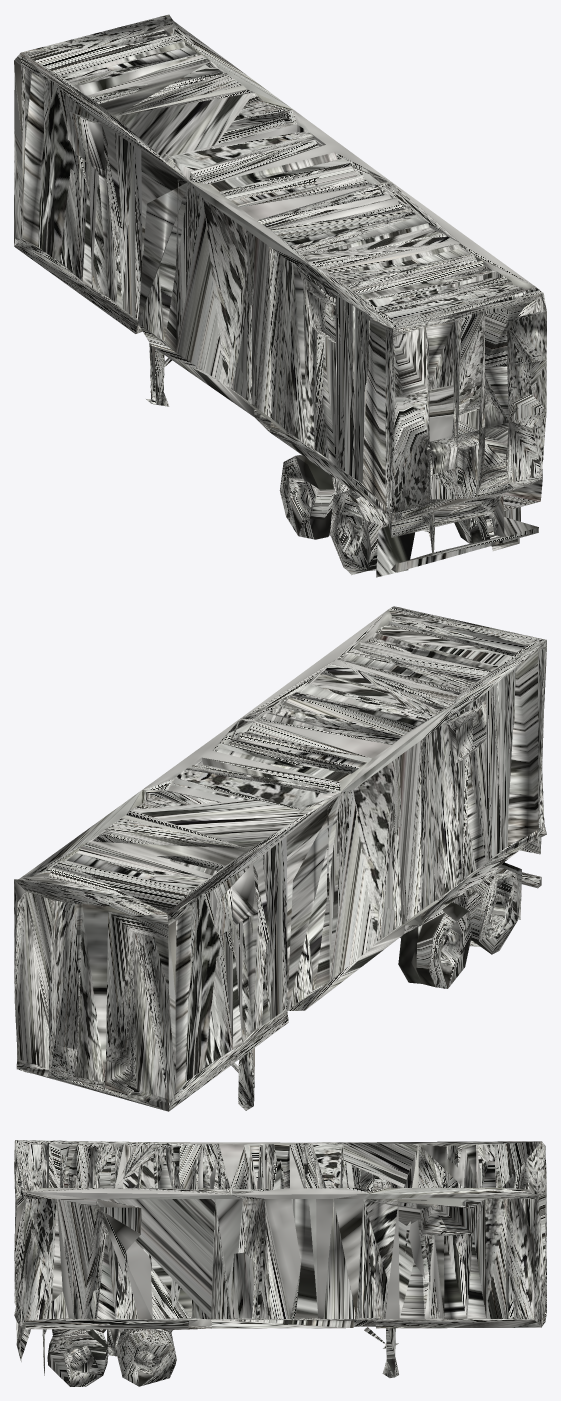
The model's file is Semi_Trailer_Cargo_20.glb.
The picture shows the model from 3 angles, top to bottom: view 1: azimuth 30°, elevation 25°; view 2: azimuth 150°, elevation 25°; view 3: azimuth 270°, elevation 25°; orthographic projection. The views are drawn at different scales.
Visible parts, largest first — view 1: output_unwrapped; view 2: output_unwrapped; view 3: output_unwrapped.
Boxes of the visible parts, left/top/right/bottom form: output_unwrapped: left=14, top=14, right=546, bottom=577; output_unwrapped: left=14, top=606, right=546, bottom=1111; output_unwrapped: left=14, top=1140, right=546, bottom=1386.
Size of the model in its own units: 2.89 by 4.94 by 12.18.
1 material, 1 textured.
